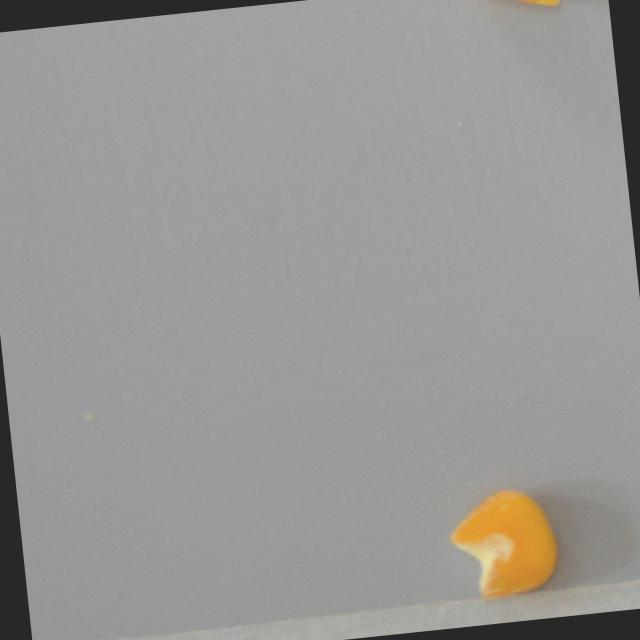pelicula: (447, 485, 563, 602), (459, 0, 589, 15)
